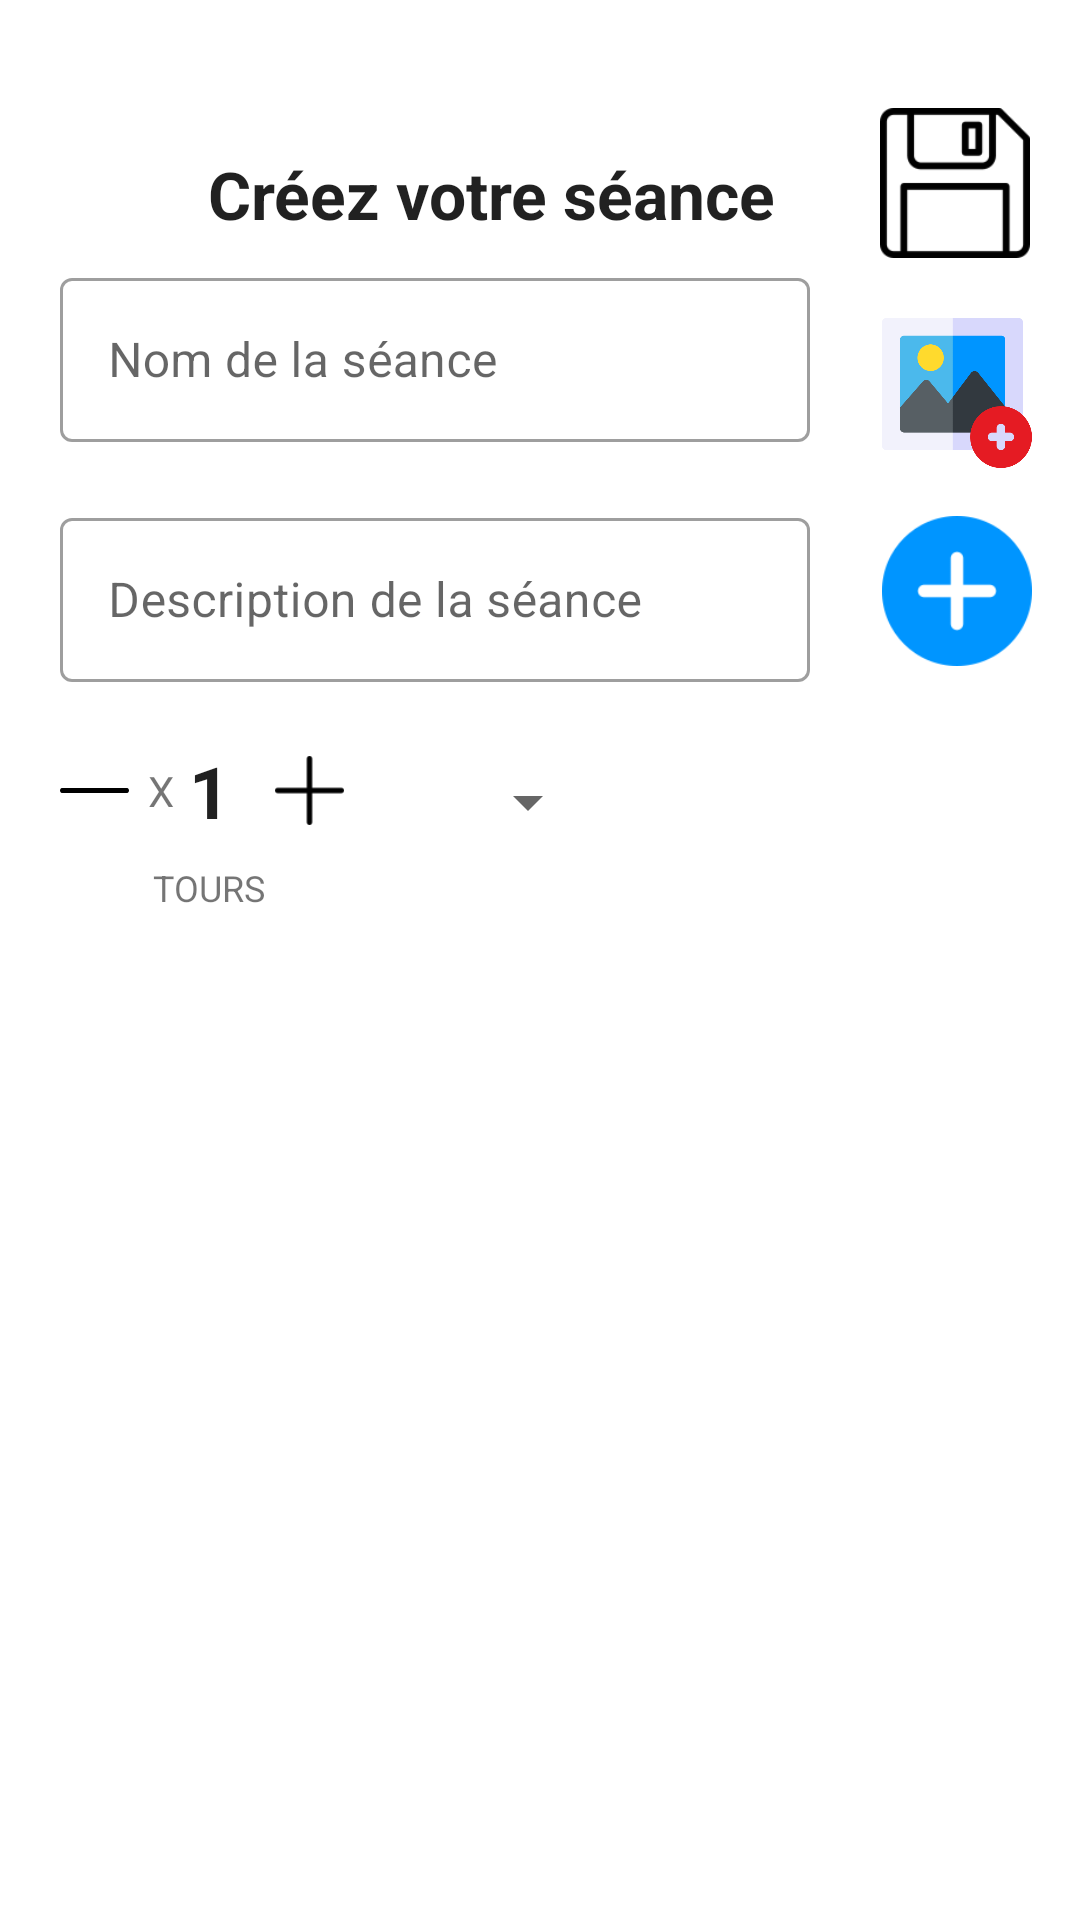

Where to tap for icons on this 1080*1920 app screen, as [x,y]:
addexo: [957,591]
addpicture: [966,393]
plus: [309,790]
save: [955,183]
